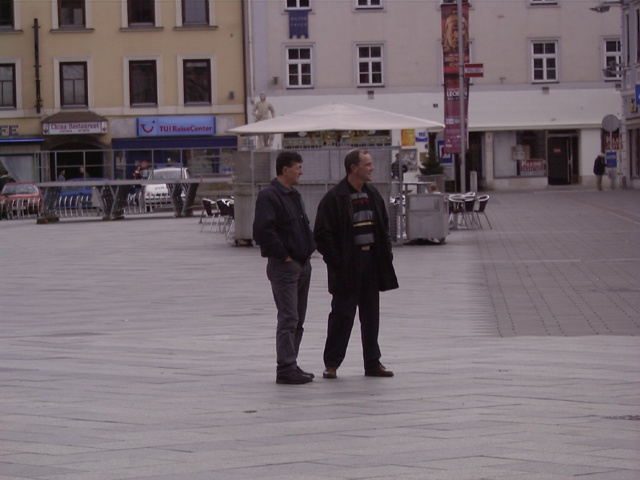person: (317, 153, 396, 375), (258, 144, 316, 386)
